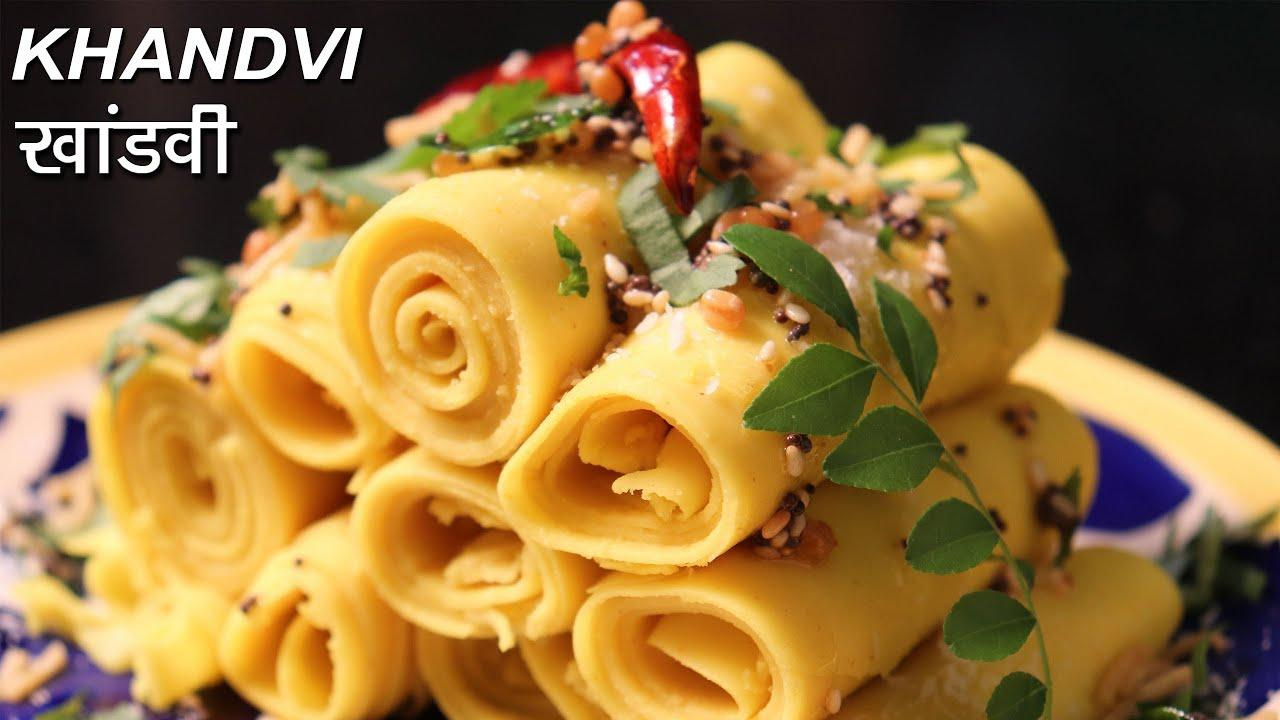khandvi: (14, 190, 1280, 720)
